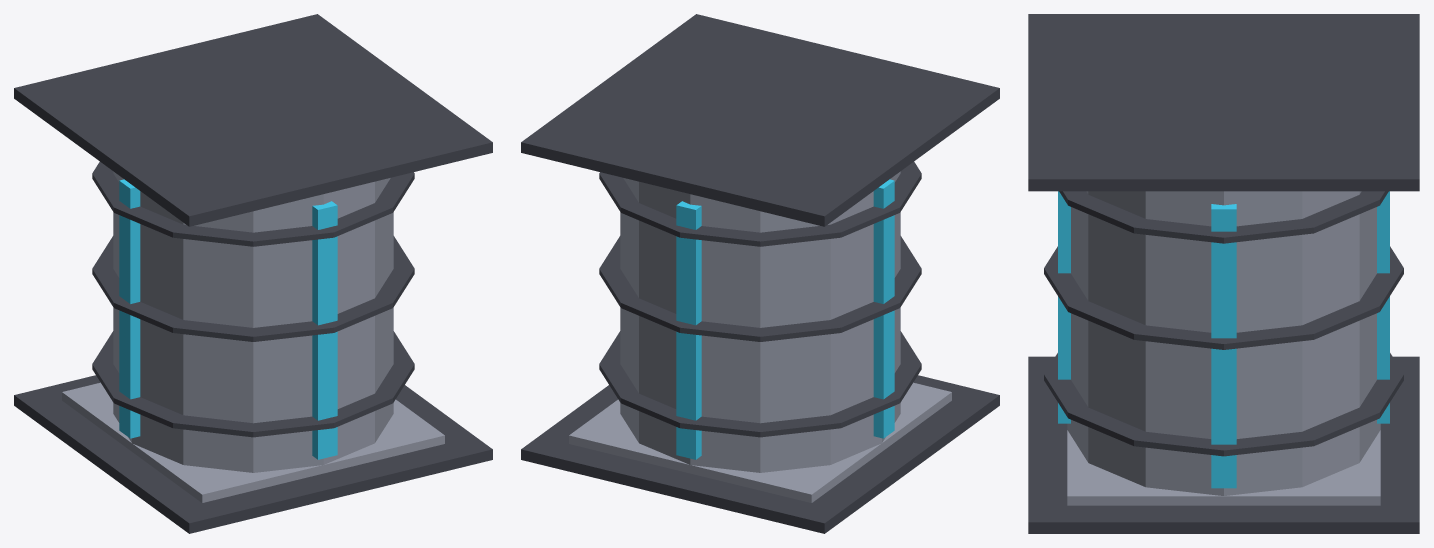
File: pillar.glb
3 renders of one model, left to right at view 1: azimuth 30°, elevation 25°; view 2: azimuth 150°, elevation 25°; view 3: azimuth 270°, elevation 25°, orthographic. The views are drawn at different scales.
Visible parts, largest first — view 1: pillar; view 2: pillar; view 3: pillar.
Boxes of the visible parts, bbox=[...] form: pillar: bbox=[14, 14, 492, 533]; pillar: bbox=[521, 14, 999, 533]; pillar: bbox=[1028, 14, 1419, 533].
Bounding box in the file's own units: 1 × 1 × 1.
